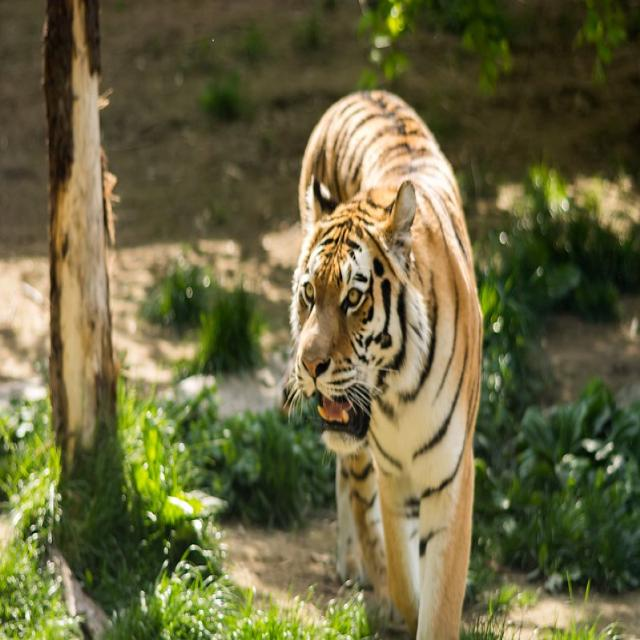Tiger: (288, 87, 482, 638)
